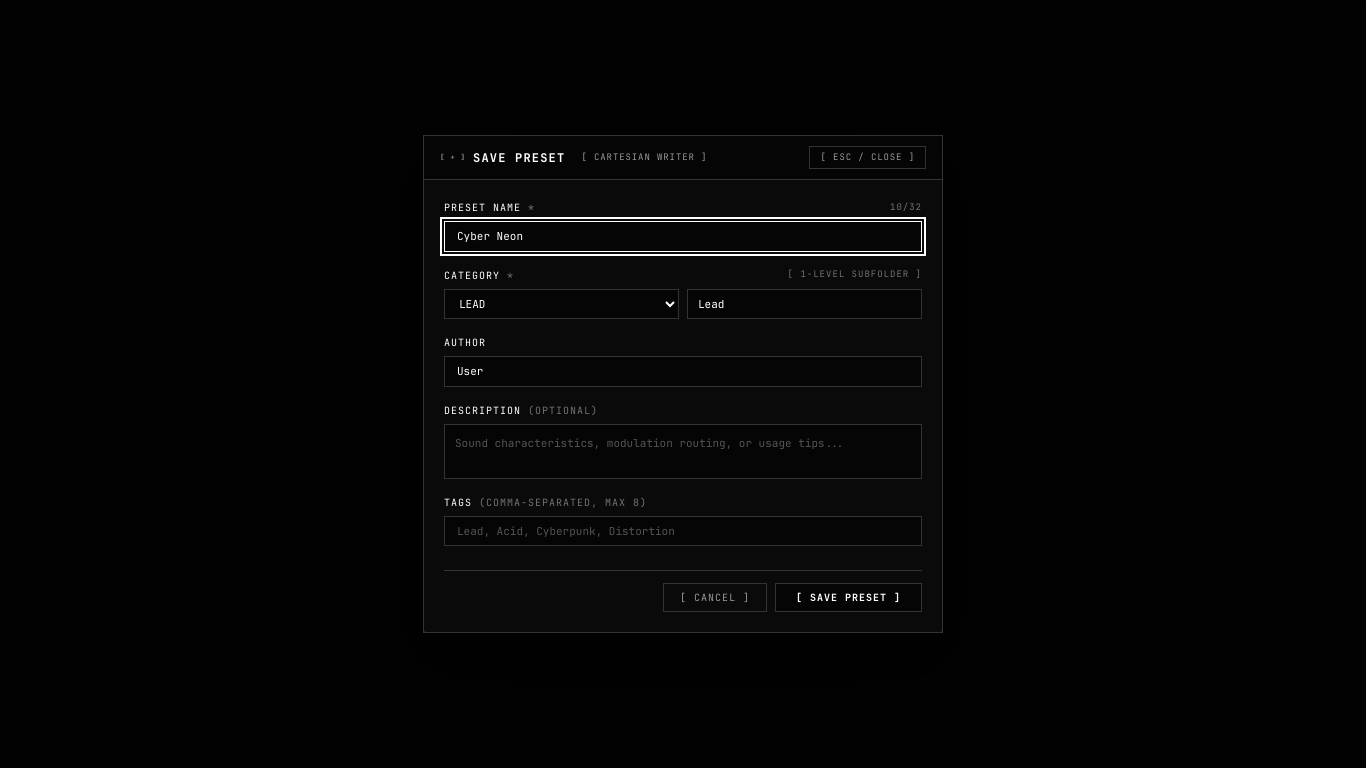
Test case: SavePresetModal › validates maximum length of 32 characters
Note: 33 characters
Replace the text in the field labelled "PRESET NAME *" with "This Preset Name Exceeds Thirty Two Characters". click: (683, 236)
box: [444,221,922,252]
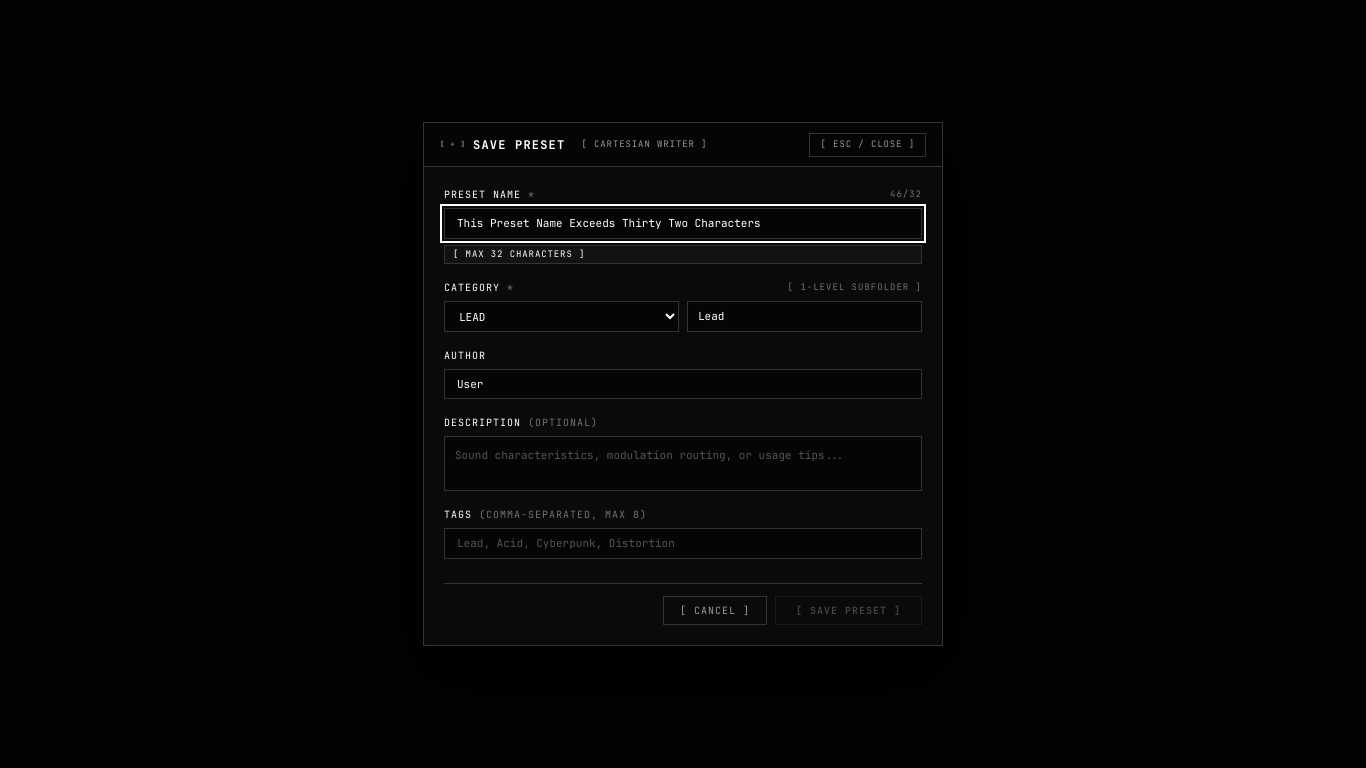
Expected: the button "[ SAVE PRESET ]" is disabled, [775,596,922,625]
Expected: the text "[ MAX 32 CHARACTERS ]" is shown, [444,245,922,264]
